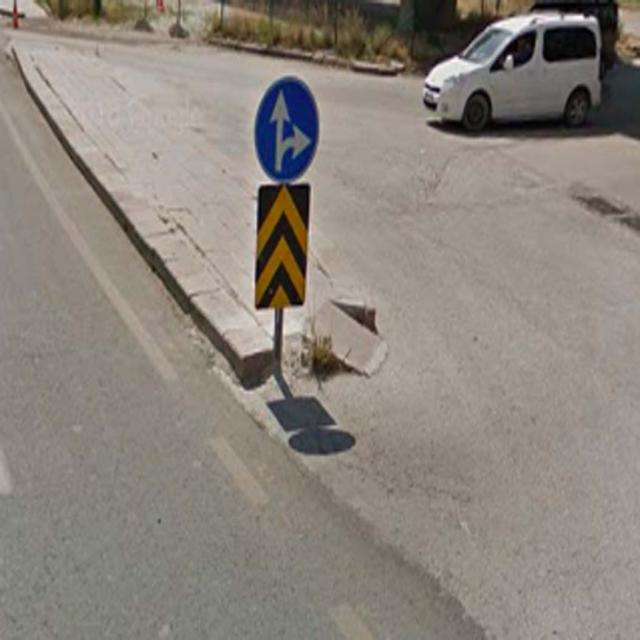ilerisag: (253, 76, 320, 180)
